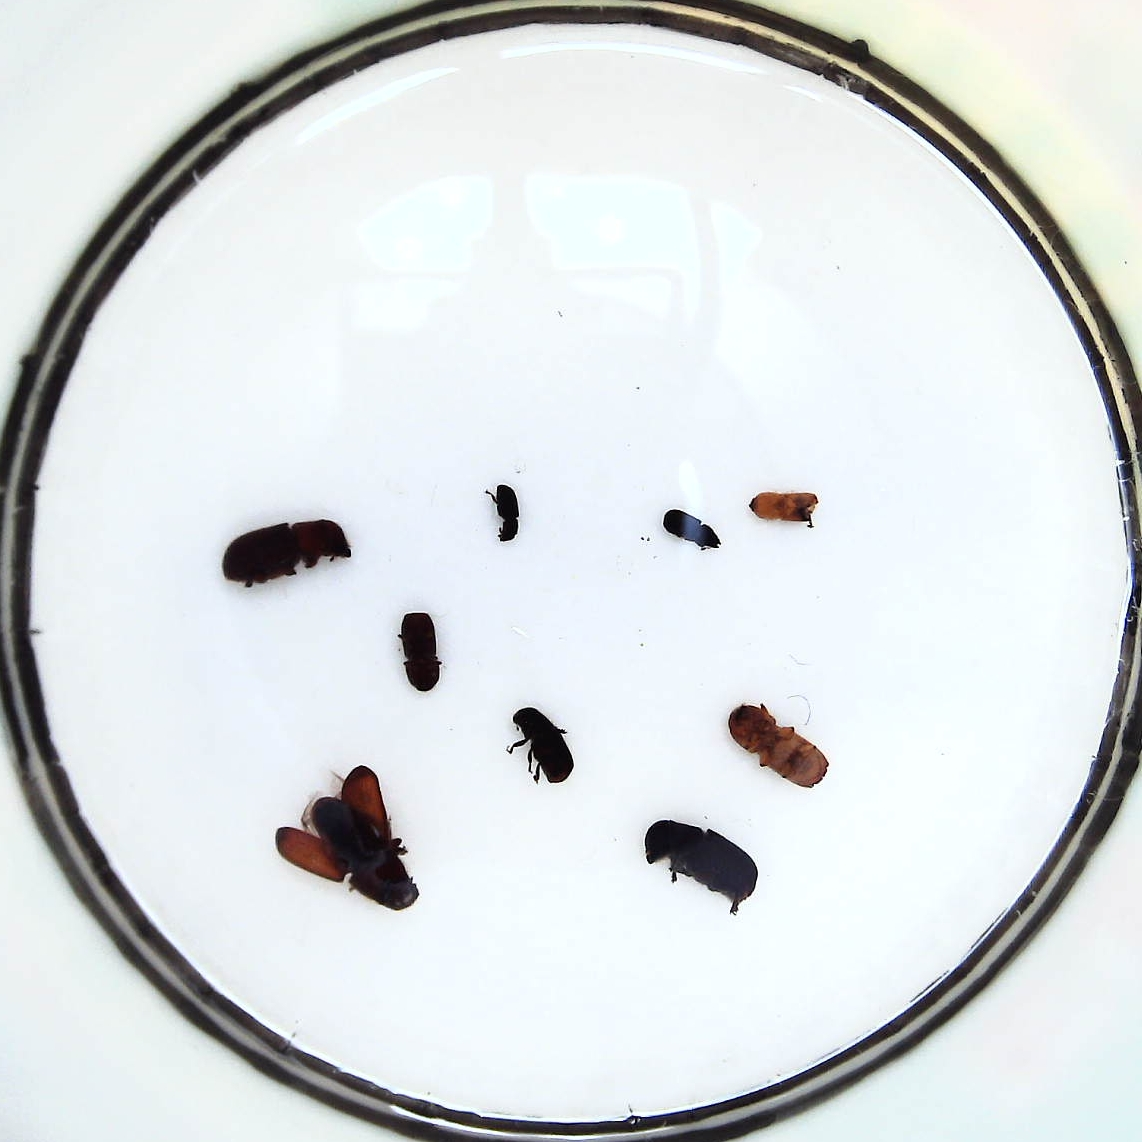Boerner: (730, 705, 830, 791)
Leconte: (276, 764, 420, 911), (646, 820, 758, 907), (222, 519, 351, 583)
acuminatus: (663, 509, 720, 550), (497, 482, 519, 543)
armandi: (513, 708, 574, 785)
coleoptera: (749, 492, 818, 522)
linnaeus: (401, 613, 440, 691)
